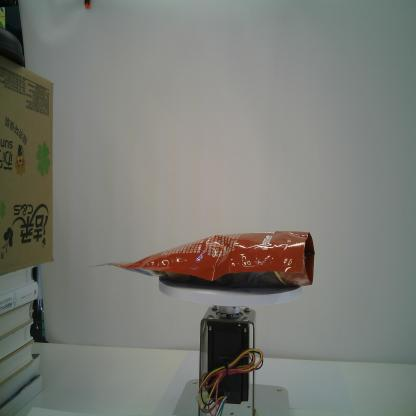Dried Food: (88, 230, 317, 288)
